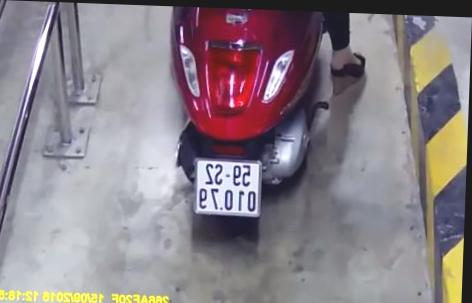License_Plate: (188, 153, 267, 223)
